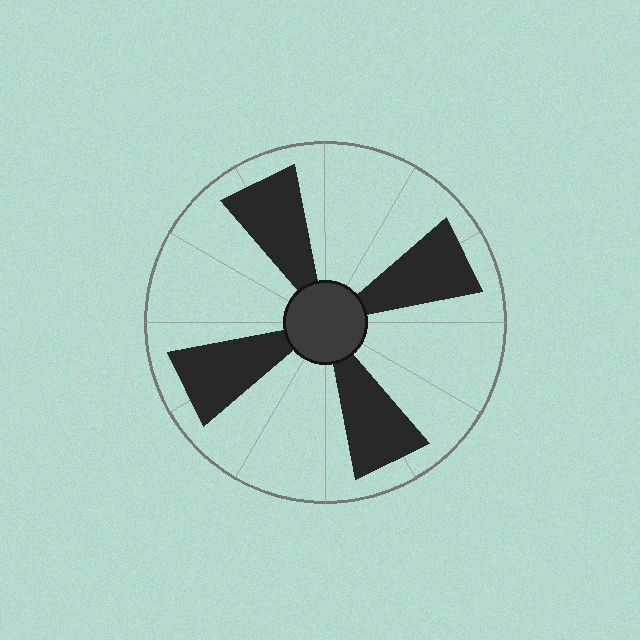fan: (140, 137, 510, 507)
